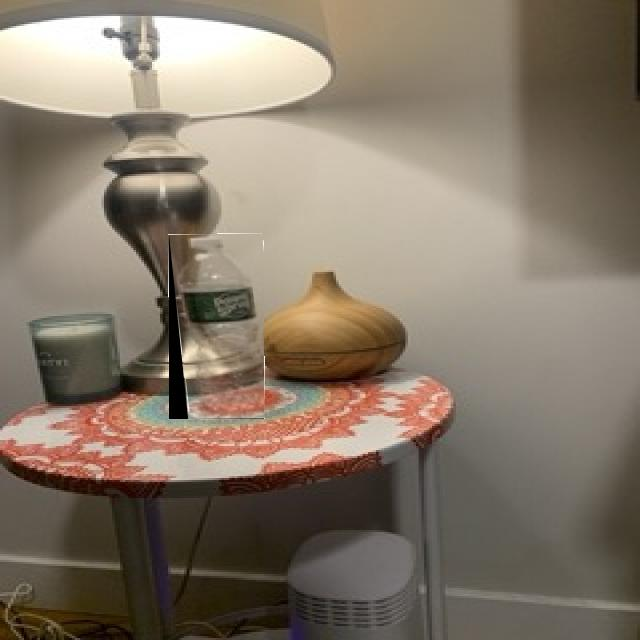water_bottle: (169, 234, 264, 419)
